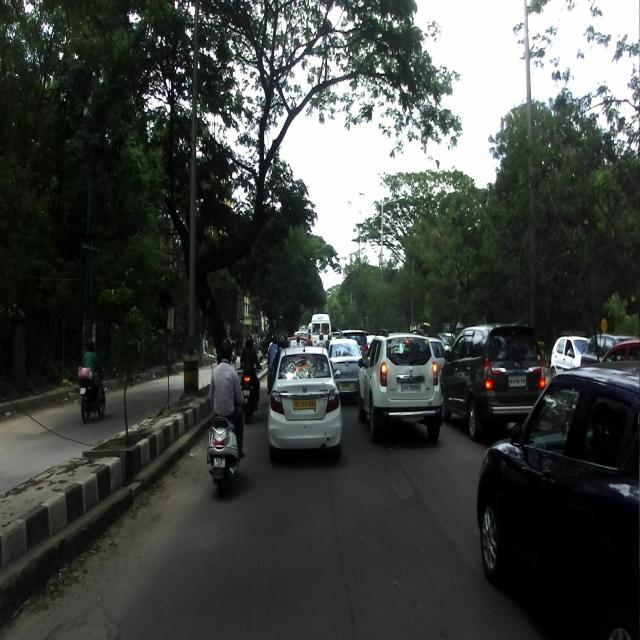car: (476, 358, 640, 639), (438, 322, 546, 442), (356, 328, 442, 443), (268, 339, 342, 464)
scooter: (205, 378, 246, 500)
